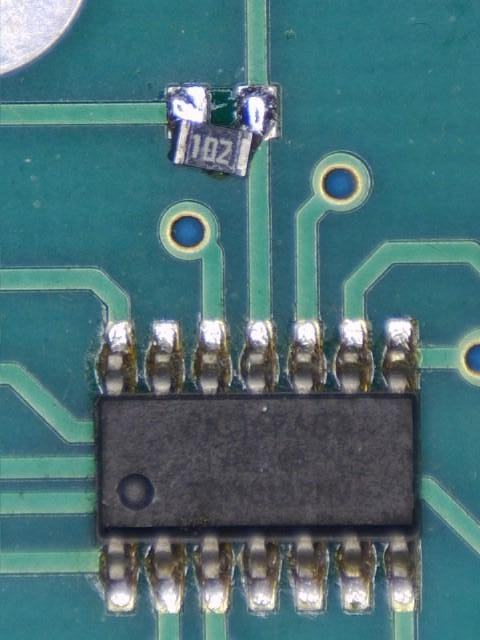pcb_defect: (164, 84, 283, 178)
